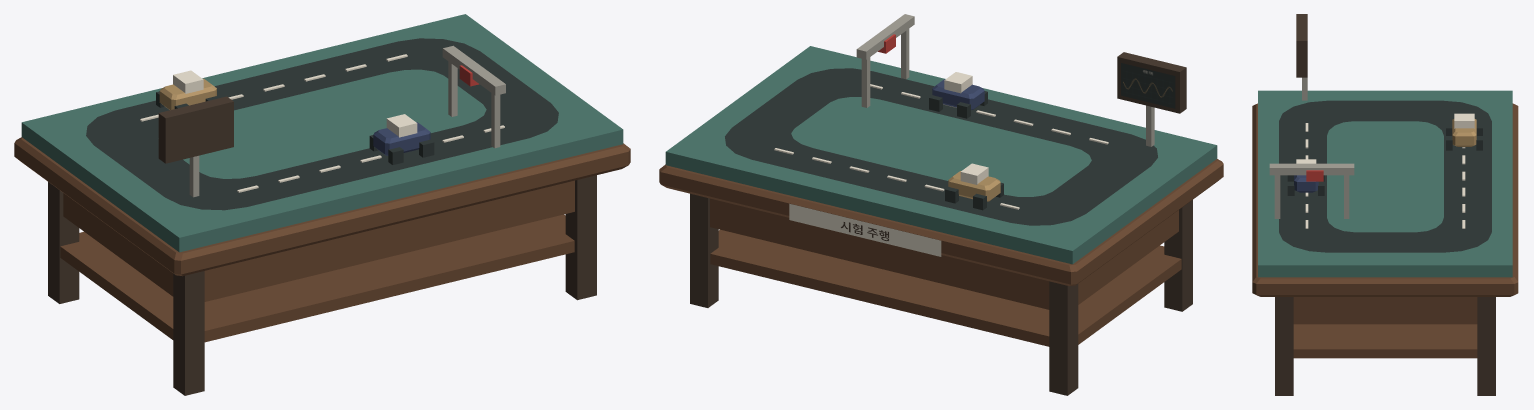
Rendered from T08_Sensor_Test_Course.fbx.
The picture shows the model from 3 angles, left to right: view 1: azimuth 30°, elevation 25°; view 2: azimuth 150°, elevation 25°; view 3: azimuth 270°, elevation 25°; orthographic projection. The views are drawn at different scales.
Parts seen in each view (by area): view 1: Course, Structure, Lap_Display, Sensor_Gate, Test_Car_02, Test_Car_01; view 2: Course, Structure, Lap_Display, Title, Sensor_Gate, Test_Car_01, Test_Car_02; view 3: Course, Structure, Sensor_Gate, Test_Car_01, Lap_Display, Test_Car_02.
Part boxes in pixels (bbox=[...]): Course: bbox=[21, 14, 623, 252]; Structure: bbox=[14, 137, 630, 395]; Lap_Display: bbox=[158, 96, 233, 197]; Sensor_Gate: bbox=[442, 45, 505, 148]; Test_Car_02: bbox=[369, 114, 434, 164]; Test_Car_01: bbox=[156, 70, 219, 110]; Course: bbox=[665, 46, 1217, 264]; Structure: bbox=[659, 159, 1223, 395]; Lap_Display: bbox=[1117, 52, 1186, 146]; Title: bbox=[789, 203, 941, 256]; Sensor_Gate: bbox=[856, 14, 914, 107]; Test_Car_01: bbox=[945, 163, 1003, 210]; Test_Car_02: bbox=[929, 72, 987, 118]; Course: bbox=[1258, 90, 1512, 277]; Structure: bbox=[1252, 103, 1518, 395]; Sensor_Gate: bbox=[1269, 163, 1354, 218]; Test_Car_01: bbox=[1446, 113, 1482, 150]; Lap_Display: bbox=[1296, 14, 1307, 100]; Test_Car_02: bbox=[1287, 159, 1324, 195].
Bounding box in the file's own units: 3.1 × 1.75 × 1.95.
10 materials, 1 textured.
